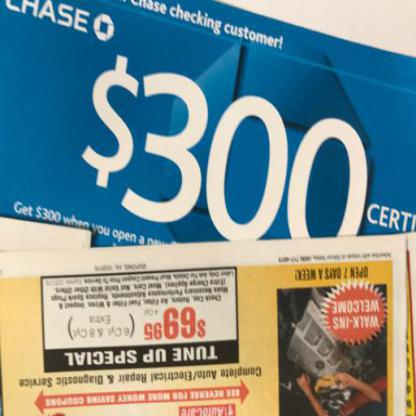paper: (0, 0, 415, 249), (2, 230, 415, 415)
